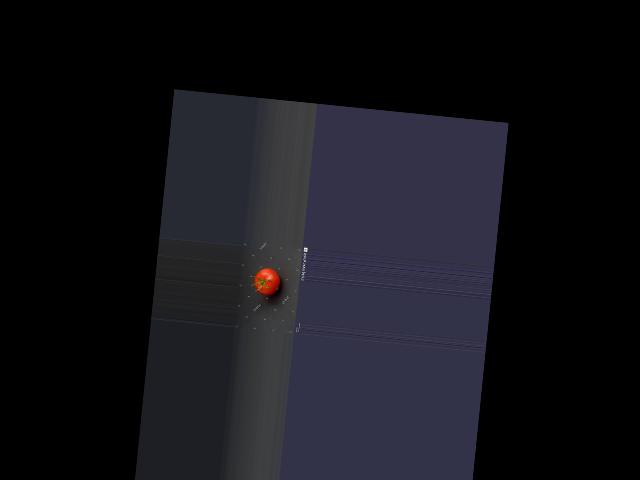tomato: (253, 267, 280, 296)
